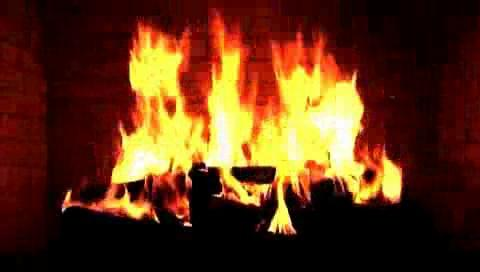fire: (100, 22, 400, 230)
